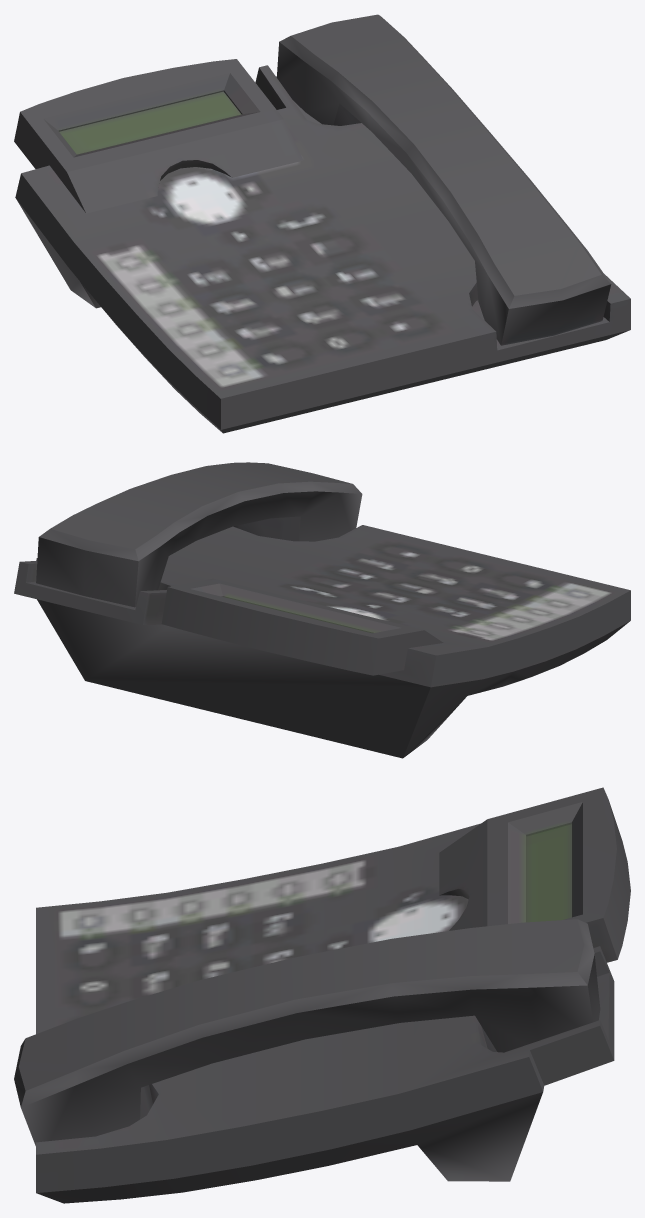
Rendered from propPhone.fbx.
The picture shows the model from 3 angles, top to bottom: view 1: azimuth 30°, elevation 25°; view 2: azimuth 150°, elevation 25°; view 3: azimuth 270°, elevation 25°; orthographic projection. The views are drawn at different scales.
Parts seen in each view (by area): view 1: propPhone; view 2: propPhone; view 3: propPhone.
Part boxes in pixels (x1,y1,x2,y2): propPhone: (14,14,630,433); propPhone: (14,462,630,758); propPhone: (14,787,630,1203).
Size of the model in its own units: 25.51 by 10.6 by 26.9.
1 material, 1 textured.
